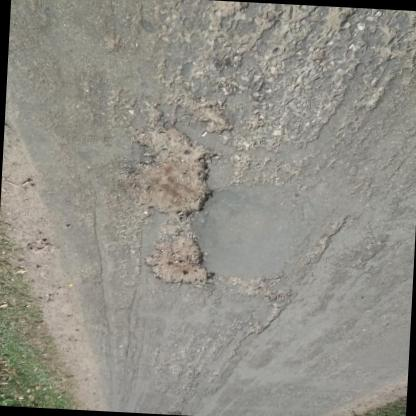pothole: (121, 120, 219, 220), (140, 224, 220, 292)
